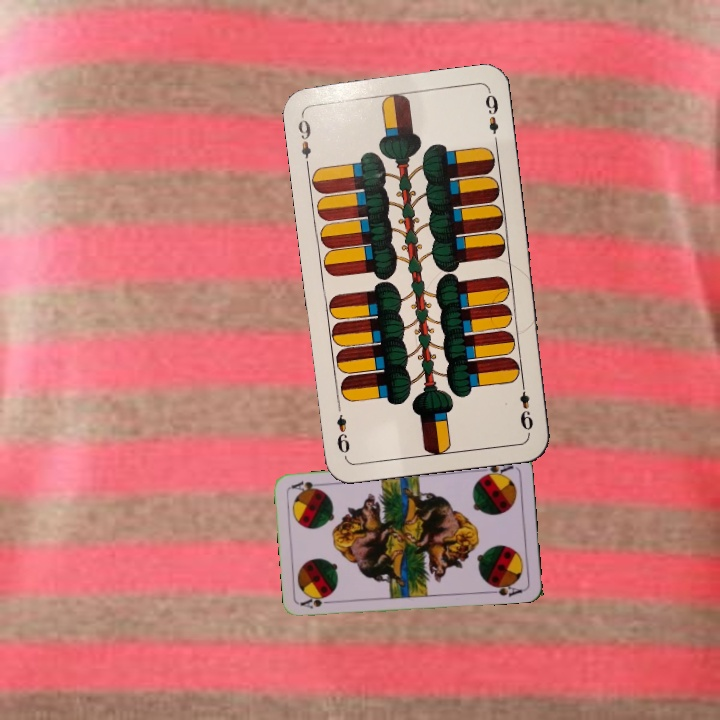E9: (515, 376, 536, 433), (294, 111, 314, 170)
SA: (476, 459, 516, 480), (297, 595, 338, 611)
